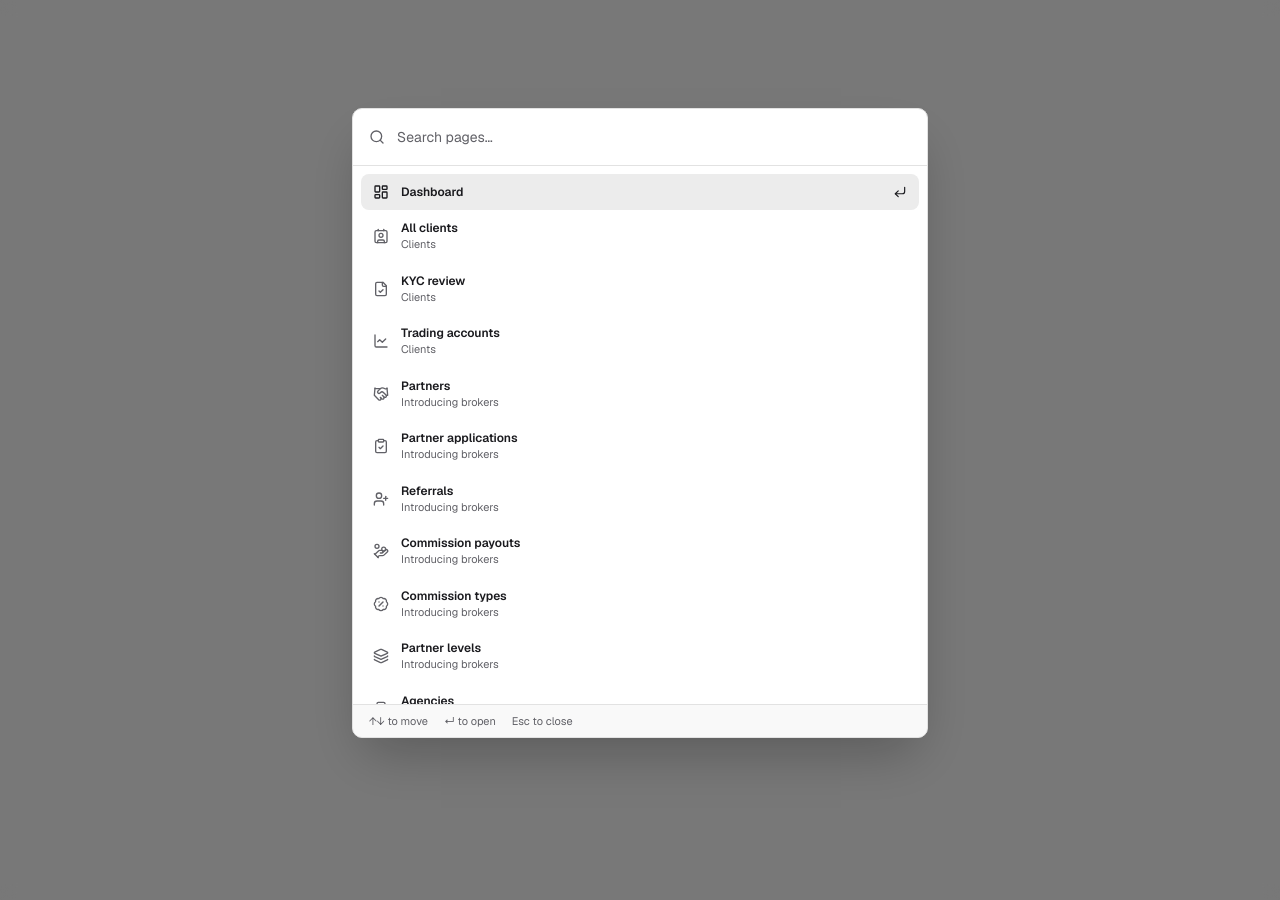
Test case: finding a page › narrows on the PATH, which is what somebody in a hurry types
// `/approvals/deposits` — the label is "Deposits" and does not contain it.
Type "approvals/" into the field.
click(654, 137); type("approvals/")  # box [397,109,911,165]
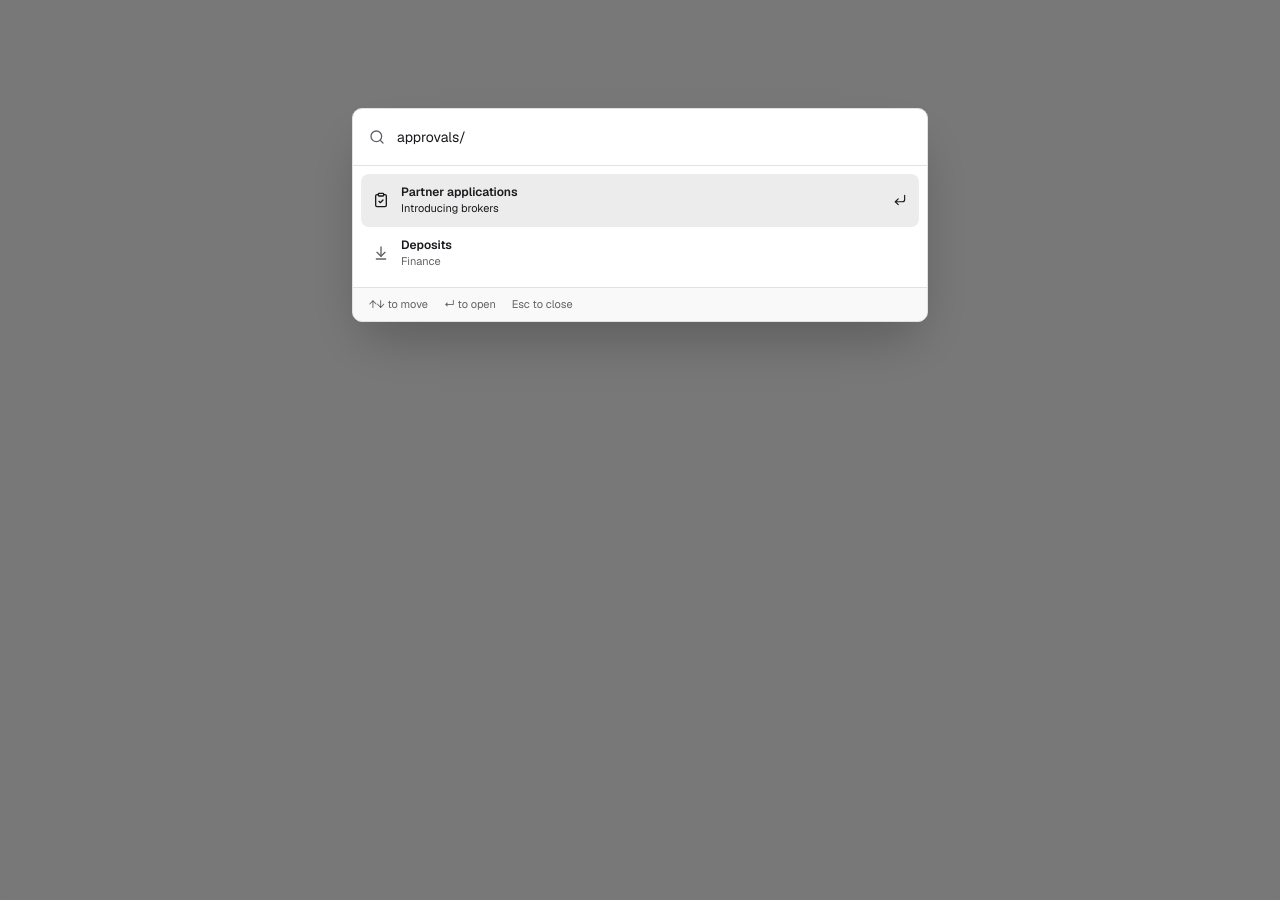
Check: the option "Partner applications Introducing brokers" is shown, box [361,174,919,226]
Check: the option "Dashboard" is gone
